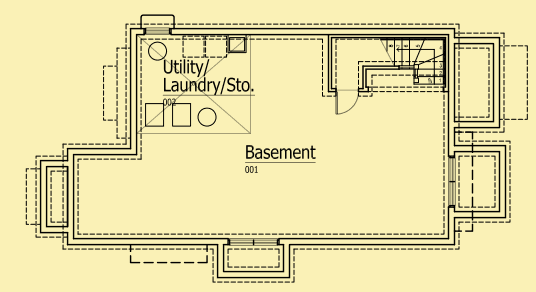door: (331, 88, 360, 119)
stairs: (377, 34, 445, 86)
window: (445, 157, 458, 206), (226, 235, 278, 247), (140, 28, 174, 36)
